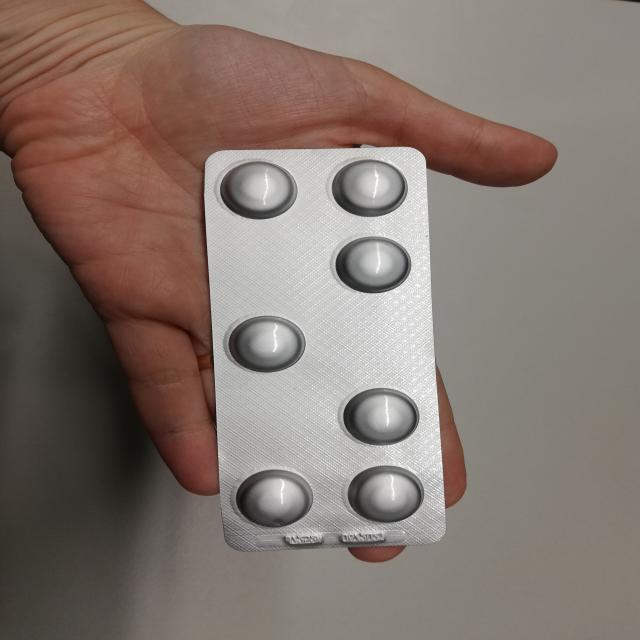Pill: (228, 465, 320, 531), (218, 157, 304, 224), (337, 384, 426, 448), (324, 157, 411, 221), (329, 235, 416, 297), (226, 311, 311, 374), (344, 464, 430, 525)
